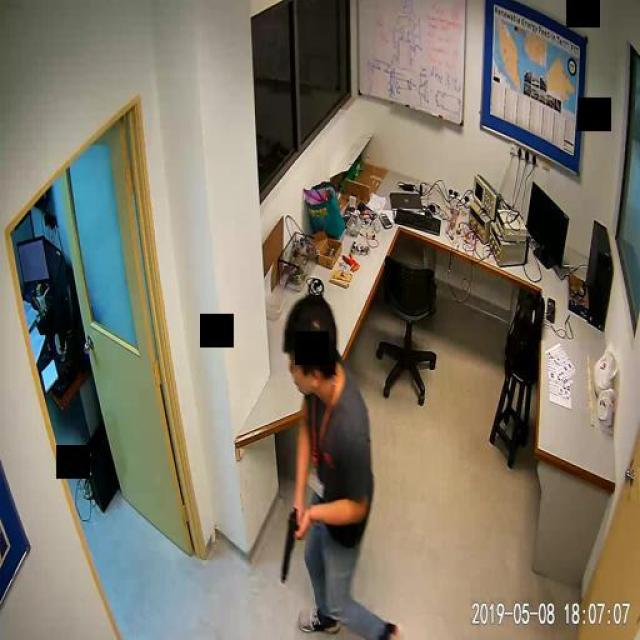gun: (279, 502, 296, 584)
